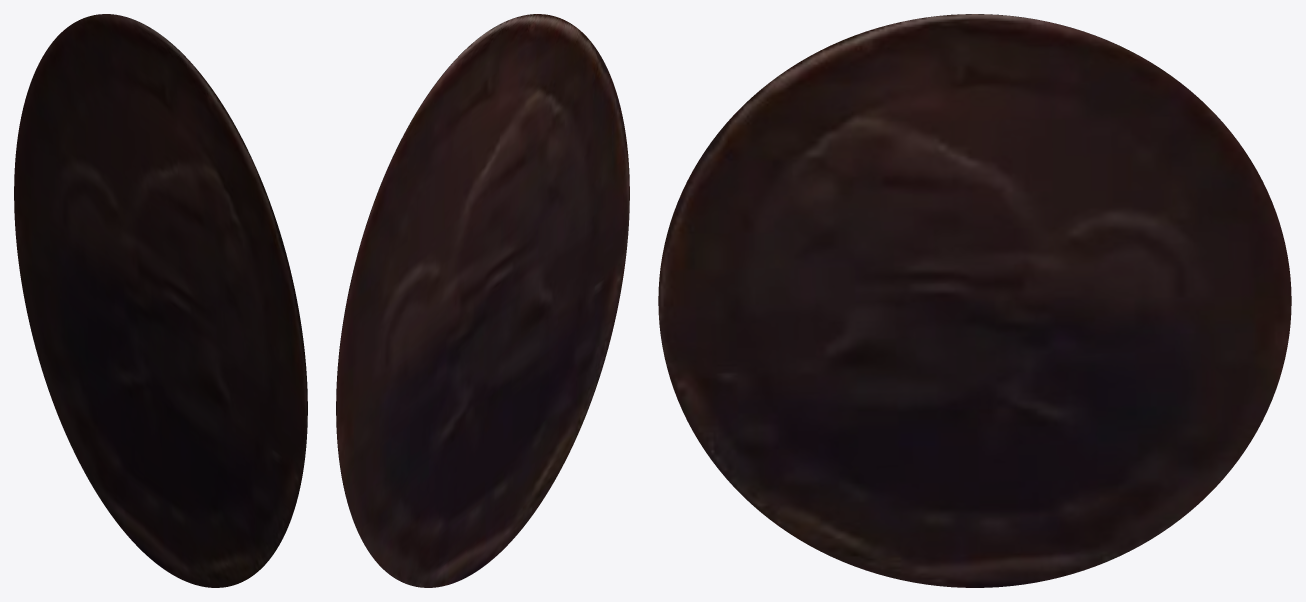
The model's file is rotation-textures.glb.
The picture shows the model from 3 angles, left to right: view 1: azimuth 30°, elevation 25°; view 2: azimuth 150°, elevation 25°; view 3: azimuth 270°, elevation 25°; orthographic projection. The views are drawn at different scales.
Parts seen in each view (by area): view 1: coin_front; view 2: coin_front; view 3: coin_front.
Boxes of the visible parts, left/top/right/bottom form: coin_front: left=14, top=14, right=307, bottom=587; coin_front: left=336, top=14, right=629, bottom=587; coin_front: left=658, top=14, right=1291, bottom=587.
Size of what is drawn, in the model's own units: 0.000307 by 0.755 by 0.755.
Materials: 2 (2 with a texture image).
